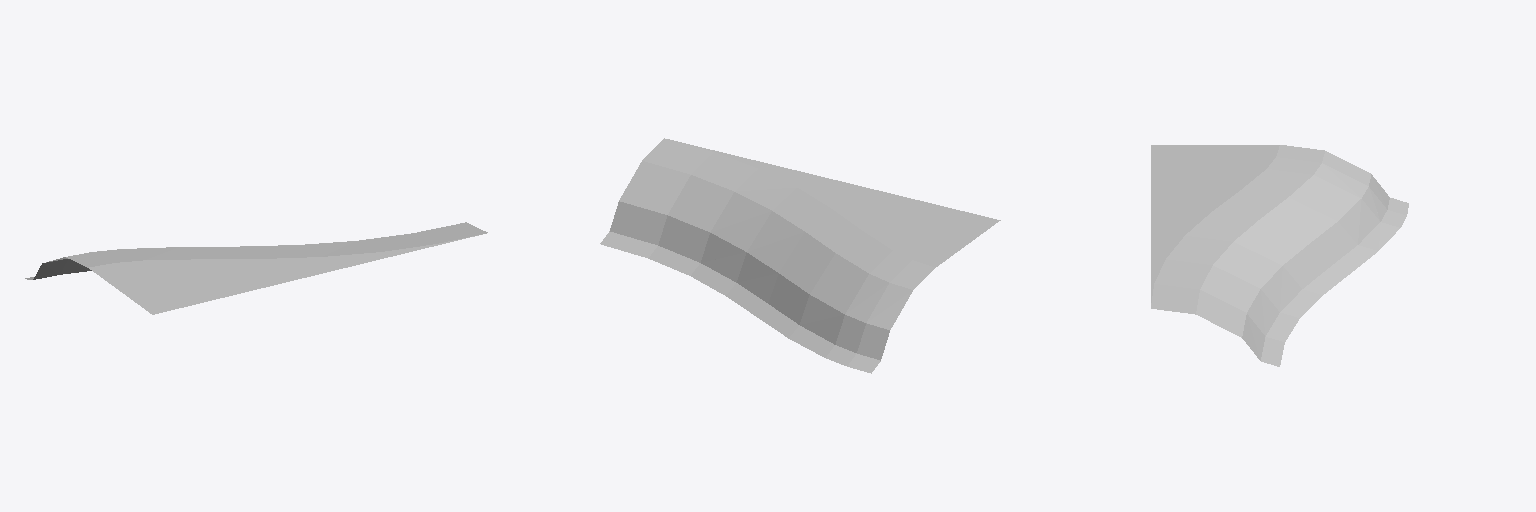
The model's file is Track_Normal_Esse_2x3.obj.
3 views of the same model, side by side, from view 1: azimuth 30°, elevation 25°; view 2: azimuth 150°, elevation 25°; view 3: azimuth 270°, elevation 25° (orthographic).
Visible parts, largest first — view 1: object1; view 2: object1; view 3: object1.
Boxes of the visible parts, box(x1,y1,x2,y2) form: object1: box(25, 222, 487, 314); object1: box(600, 138, 1000, 373); object1: box(1151, 145, 1408, 366).
Bounding box in the file's own units: 3 × 0.5 × 2.